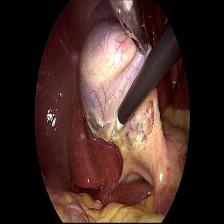Grasper: (109, 0, 150, 58)
Hook: (108, 109, 126, 146)
